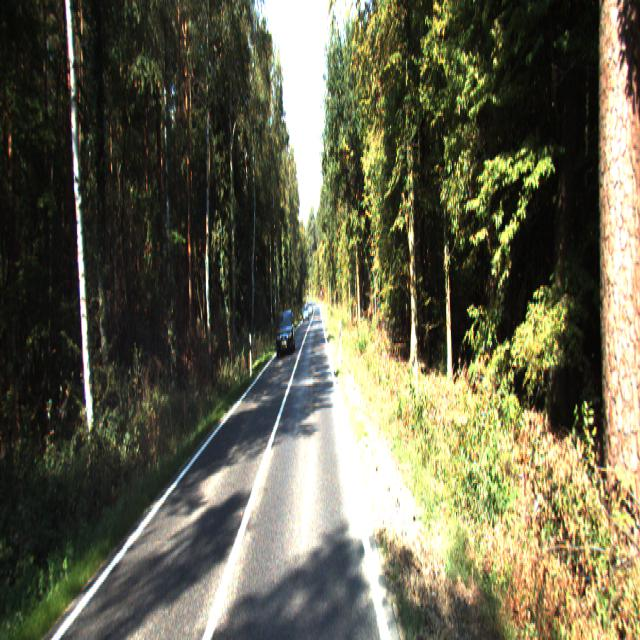Car: (276, 309, 295, 358)
